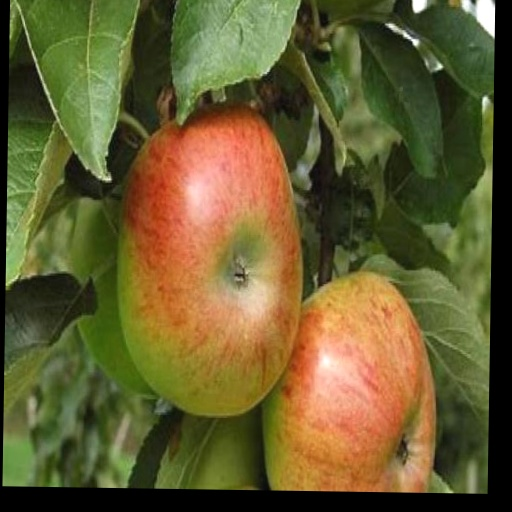fruit: (118, 107, 301, 416), (263, 273, 435, 492), (72, 200, 153, 395), (162, 408, 264, 489)
